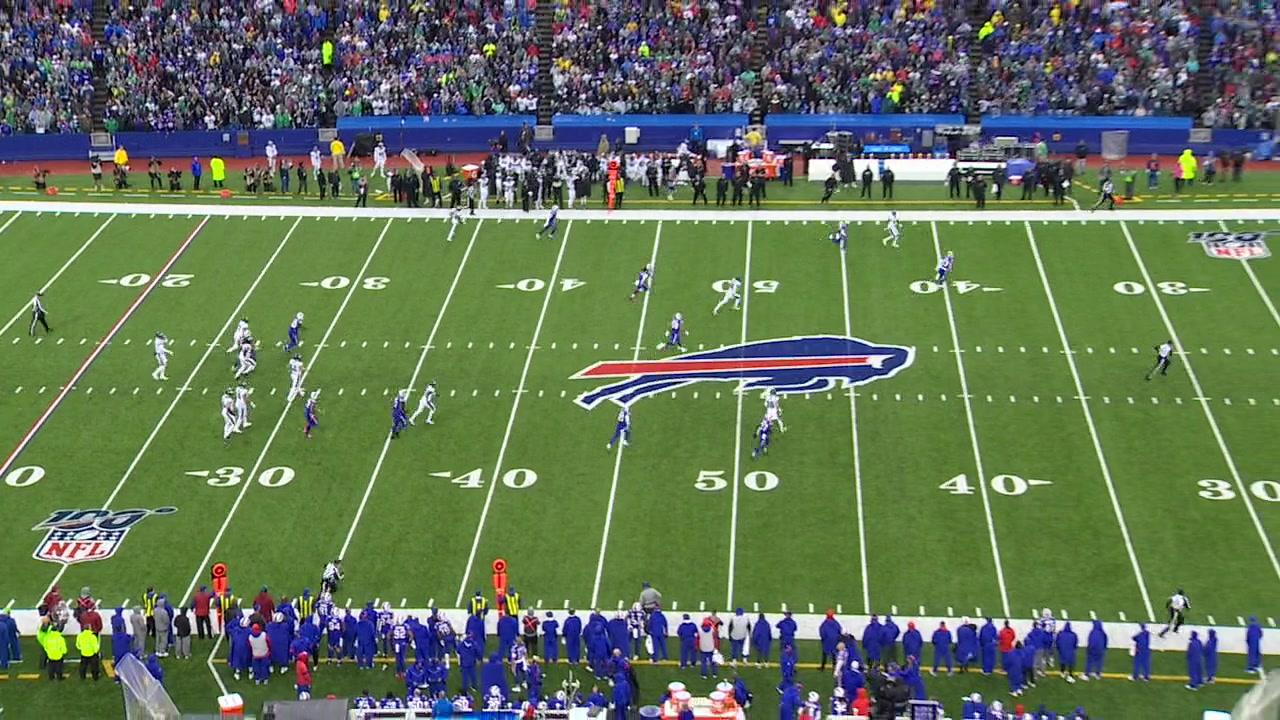player: (406, 378, 443, 428), (148, 328, 177, 383), (654, 311, 691, 354), (230, 329, 266, 373), (604, 403, 634, 453), (231, 379, 258, 434), (761, 388, 791, 434), (626, 261, 657, 305), (218, 385, 241, 444), (711, 275, 743, 317), (232, 335, 260, 383), (223, 314, 254, 357), (280, 310, 310, 354), (749, 413, 776, 459), (389, 388, 412, 442), (300, 390, 324, 441), (285, 352, 309, 403), (932, 247, 960, 287), (826, 218, 852, 258), (534, 204, 560, 243), (879, 209, 904, 249), (447, 204, 465, 242)
ref: (1156, 585, 1193, 640), (1142, 336, 1178, 385), (318, 555, 348, 601), (1088, 177, 1118, 217), (29, 290, 51, 338), (461, 182, 481, 216)
